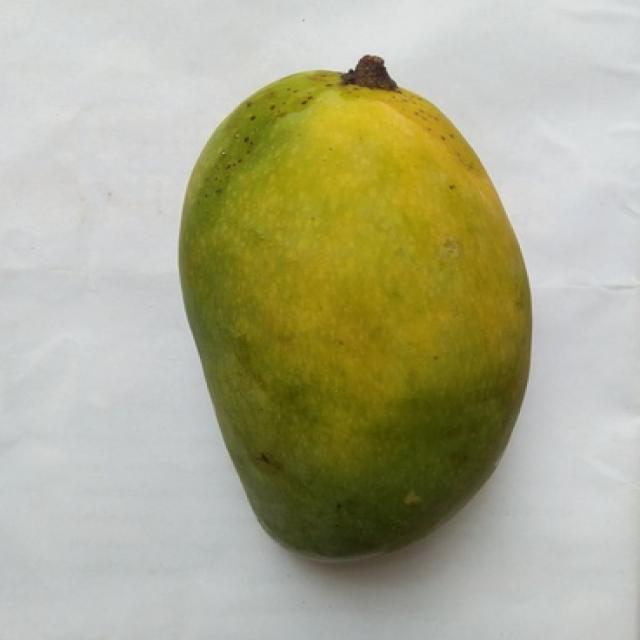Mango: (179, 57, 530, 556)
